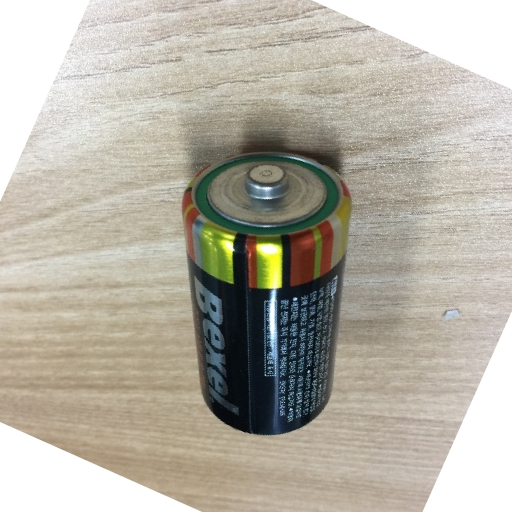Battery_0: (168, 141, 361, 438)
